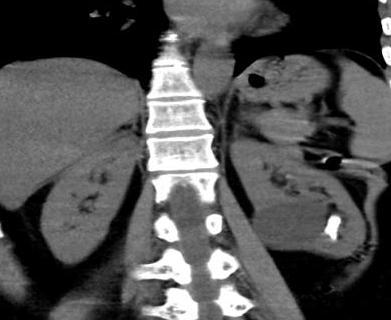Tas_Var: (320, 214, 344, 244)
